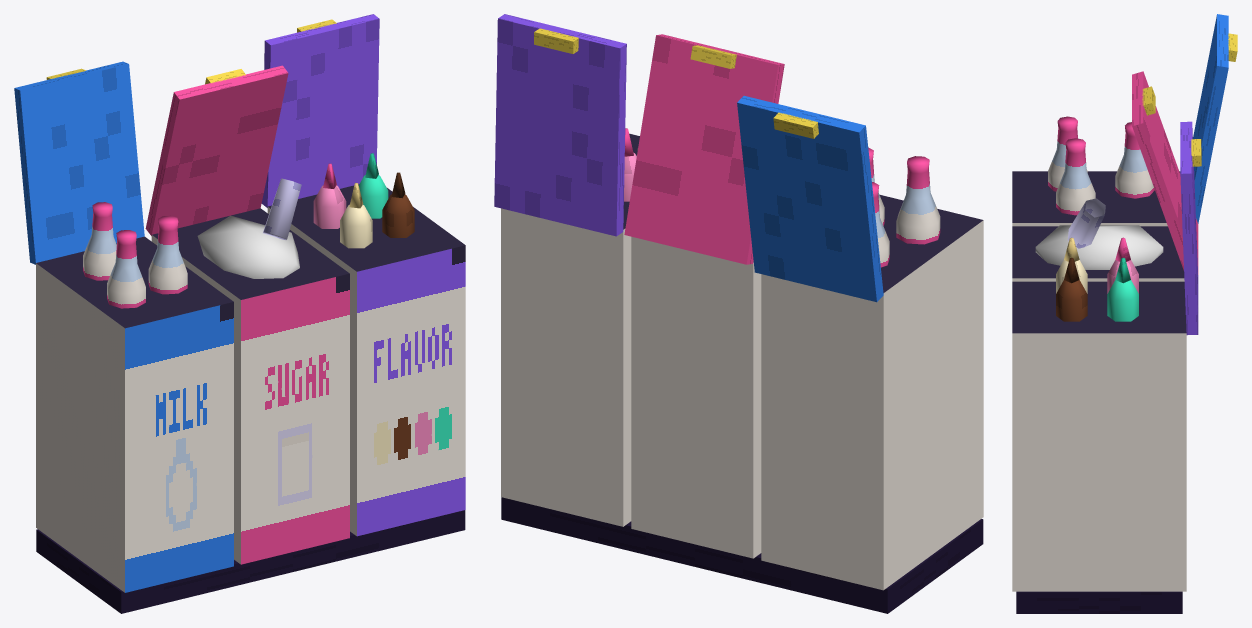
File: Ingredient Bins.fbx
3 renders of one model, left to right at view 1: azimuth 30°, elevation 25°; view 2: azimuth 150°, elevation 25°; view 3: azimuth 270°, elevation 25°, orthographic. The views are drawn at different scales.
Parts seen in each view (by area): view 1: Ingredient Bins bin milk, Ingredient Bins bin flavoring, Ingredient Bins bin sugar, Ingredient Bins bin milk lid.001, Ingredient Bins bin flavoring lid.001, Ingredient Bins bin sugar lid.001, Ingredient Bins bins plinth, Ingredient Bins bin sugar mound, Ingredient Bins bin milk bottle 1, Ingredient Bins bin milk bottle 0, Ingredient Bins bin milk bottle 2, Ingredient Bins sugar scoop (+4 smaller); view 2: Ingredient Bins bin milk, Ingredient Bins bin sugar, Ingredient Bins bin flavoring, Ingredient Bins bin flavoring lid.001, Ingredient Bins bin sugar lid.001, Ingredient Bins bin milk lid.001, Ingredient Bins bins plinth, Ingredient Bins bin milk bottle 0, Ingredient Bins bin milk lid handle, Ingredient Bins bin flavoring lid handle, Ingredient Bins bin sugar lid handle, Ingredient Bins bin milk bottle 2; view 3: Ingredient Bins bin flavoring, Ingredient Bins bin milk, Ingredient Bins bin sugar lid.001, Ingredient Bins bin sugar, Ingredient Bins bins plinth, Ingredient Bins bin sugar mound, Ingredient Bins bin milk lid.001, Ingredient Bins bin flavoring lid.001, Ingredient Bins bin milk bottle 1, Ingredient Bins bin milk bottle 2, Ingredient Bins sugar scoop, Ingredient Bins flavor bottle 1 (+5 smaller).
Boxes of the visible parts, x1,y1,x2,y2 form: Ingredient Bins bin milk: (36, 236, 233, 592); Ingredient Bins bin flavoring: (267, 184, 465, 536); Ingredient Bins bin sugar: (151, 208, 349, 564); Ingredient Bins bin milk lid.001: (14, 61, 144, 264); Ingredient Bins bin flavoring lid.001: (261, 14, 379, 207); Ingredient Bins bin sugar lid.001: (145, 65, 288, 235); Ingredient Bins bins plinth: (36, 510, 465, 613); Ingredient Bins bin sugar mound: (197, 215, 299, 278); Ingredient Bins bin milk bottle 1: (148, 215, 187, 294); Ingredient Bins bin milk bottle 0: (107, 230, 145, 308); Ingredient Bins bin milk bottle 2: (83, 202, 116, 280); Ingredient Bins sugar scoop: (263, 178, 301, 239); Ingredient Bins bin milk: (761, 195, 983, 590); Ingredient Bins bin sugar: (631, 236, 761, 558); Ingredient Bins bin flavoring: (501, 133, 639, 526); Ingredient Bins bin flavoring lid.001: (494, 14, 626, 236); Ingredient Bins bin sugar lid.001: (624, 34, 784, 264); Ingredient Bins bin milk lid.001: (737, 95, 883, 302); Ingredient Bins bins plinth: (501, 497, 983, 613); Ingredient Bins bin milk bottle 0: (896, 156, 940, 244); Ingredient Bins bin milk lid handle: (773, 112, 818, 138); Ingredient Bins bin flavoring lid handle: (534, 28, 578, 53); Ingredient Bins bin sugar lid handle: (690, 45, 736, 68); Ingredient Bins bin milk bottle 2: (872, 182, 889, 267); Ingredient Bins bin flavoring: (1012, 281, 1186, 591); Ingredient Bins bin milk: (1012, 171, 1180, 226); Ingredient Bins bin sugar lid.001: (1132, 71, 1198, 274); Ingredient Bins bin sugar: (1012, 226, 1184, 281); Ingredient Bins bins plinth: (1016, 591, 1182, 613); Ingredient Bins bin sugar mound: (1035, 225, 1163, 269); Ingredient Bins bin milk lid.001: (1193, 14, 1228, 223); Ingredient Bins bin flavoring lid.001: (1180, 121, 1198, 335); Ingredient Bins bin milk bottle 1: (1056, 138, 1095, 215); Ingredient Bins bin milk bottle 2: (1115, 122, 1154, 198); Ingredient Bins sugar scoop: (1067, 198, 1105, 248); Ingredient Bins flavor bottle 1: (1056, 280, 1087, 321).
Bounding box in the file's own units: 0.98 × 1.23 × 0.569.
19 materials, 18 textured.
